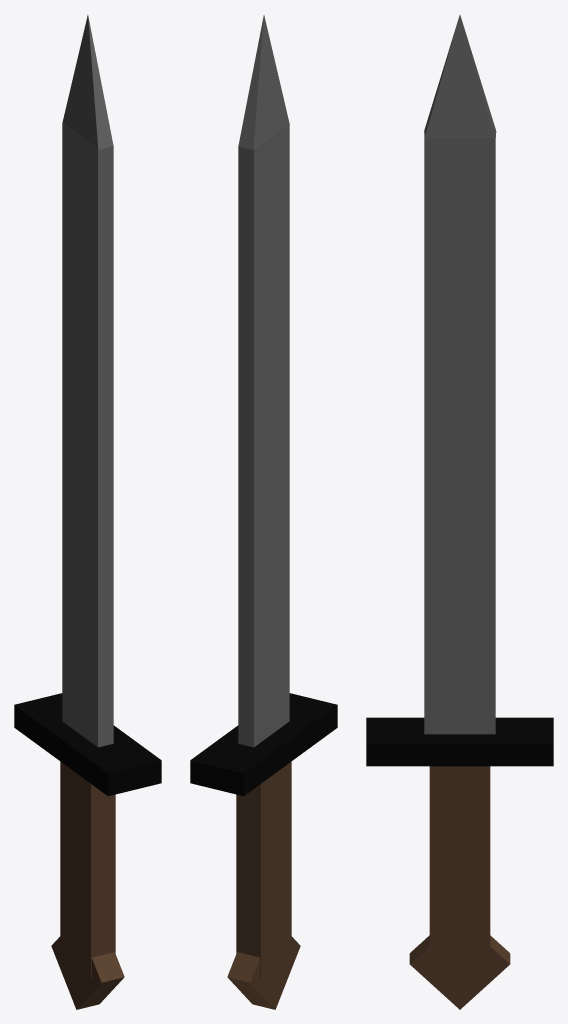
Rendered from sword.fbx.
The picture shows the model from 3 angles, left to right: view 1: azimuth 30°, elevation 25°; view 2: azimuth 150°, elevation 25°; view 3: azimuth 270°, elevation 25°; orthographic projection.
Visible parts, largest first — view 1: 立方体.002; view 2: 立方体.002; view 3: 立方体.002.
Part boxes in pixels (bbox=[...]): 立方体.002: bbox=[14, 15, 161, 1009]; 立方体.002: bbox=[190, 15, 337, 1009]; 立方体.002: bbox=[366, 15, 553, 1009].
Bounding box in the file's own units: 13.93 × 246 × 42.2.
